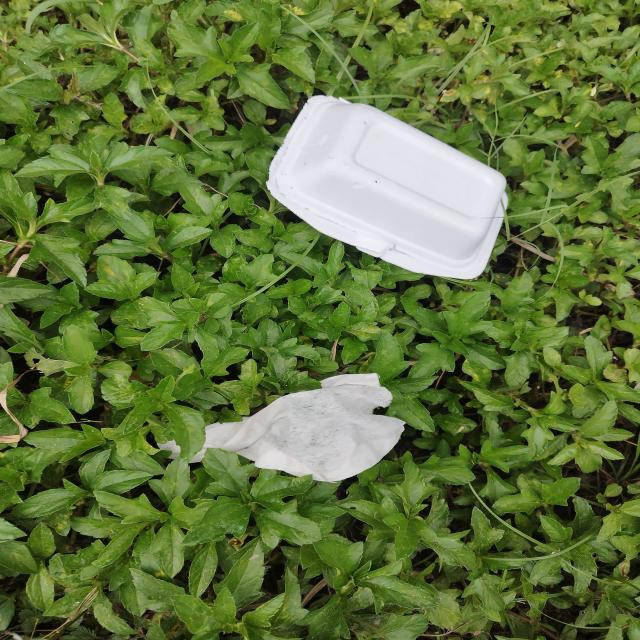foam box: (269, 94, 510, 280)
napkin: (154, 374, 408, 482)
